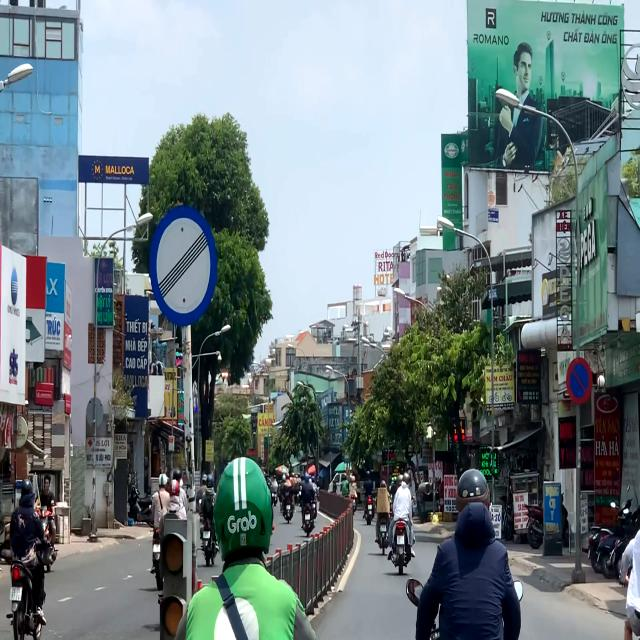DP.135: (150, 201, 218, 326)
P.131a: (565, 358, 593, 406)
